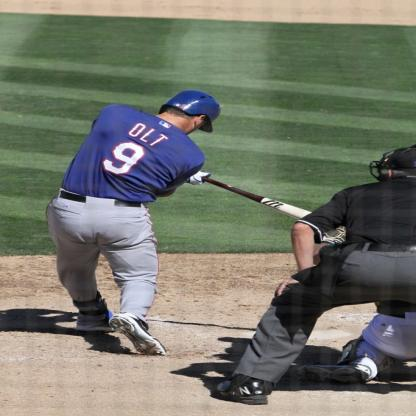Helmet: (153, 89, 221, 123), (369, 143, 415, 184)
